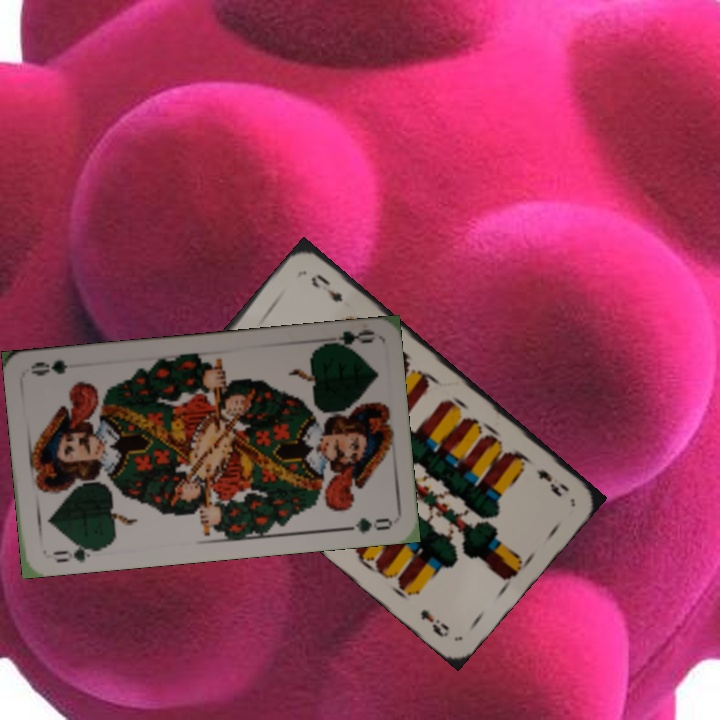E9: (531, 465, 572, 500)
GO: (317, 325, 376, 353), (48, 538, 104, 565)
